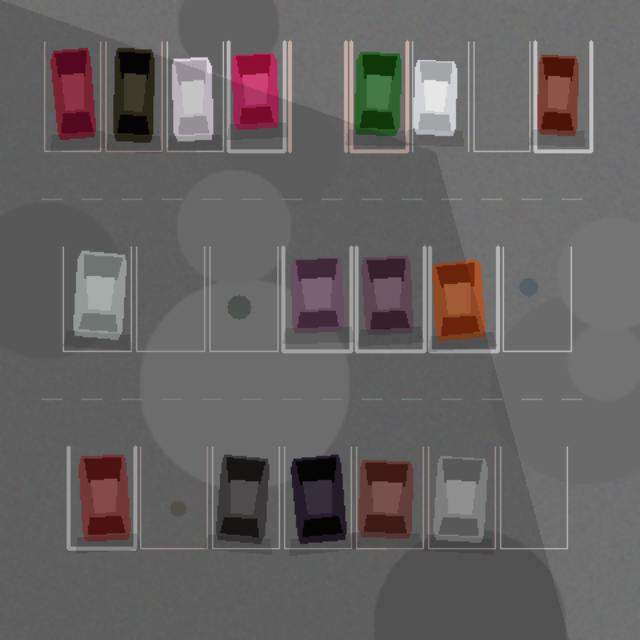space-empty: (136, 247, 204, 351), (209, 247, 277, 351), (503, 247, 571, 351), (140, 447, 207, 548), (500, 447, 567, 548), (289, 41, 345, 151), (473, 41, 529, 151)
space-occupied: (63, 247, 131, 351), (283, 247, 351, 351), (356, 247, 424, 351), (429, 247, 497, 351), (68, 447, 135, 548), (212, 447, 279, 548), (284, 447, 351, 548), (356, 447, 423, 548), (428, 447, 495, 548), (44, 41, 100, 151), (105, 41, 161, 151), (167, 41, 223, 151), (228, 41, 284, 151), (351, 41, 407, 151), (412, 41, 468, 151), (535, 41, 591, 151)
